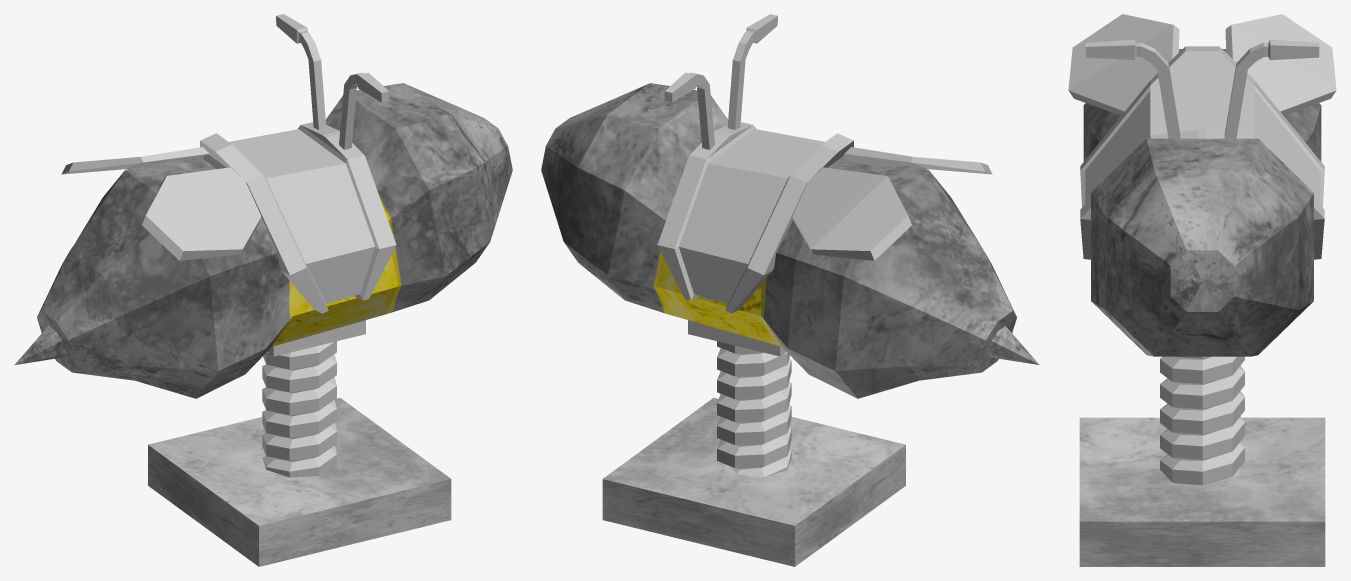
File: Bee.fbx
The picture shows the model from 3 angles, left to right: view 1: azimuth 30°, elevation 25°; view 2: azimuth 150°, elevation 25°; view 3: azimuth 270°, elevation 25°; orthographic projection. The views are drawn at different scales.
Visible parts, largest first — view 1: Bee, Spring, Sadle, BeeWings.001, Circle, Basetop; view 2: Bee, Spring, Sadle, BeeWings.001, Circle, Basetop; view 3: Bee, Spring, Sadle, BeeWings.001, Circle.
Boxes of the visible parts, x1,y1,x2,y2 form: Bee: (14,83,512,398); Spring: (148,397,451,566); Sadle: (200,14,396,313); BeeWings.001: (61,147,261,260); Circle: (262,341,336,477); Basetop: (267,320,365,356); Bee: (541,83,1039,398); Spring: (602,397,905,566); Sadle: (657,14,853,313); BeeWings.001: (792,147,992,260); Circle: (717,341,791,477); Basetop: (688,320,786,356); Bee: (1083,49,1321,356); Spring: (1079,417,1325,566); Sadle: (1080,39,1324,259); BeeWings.001: (1068,14,1336,115); Circle: (1160,356,1244,485).
Bounding box in the file's own units: 167 × 145 × 72.1.
